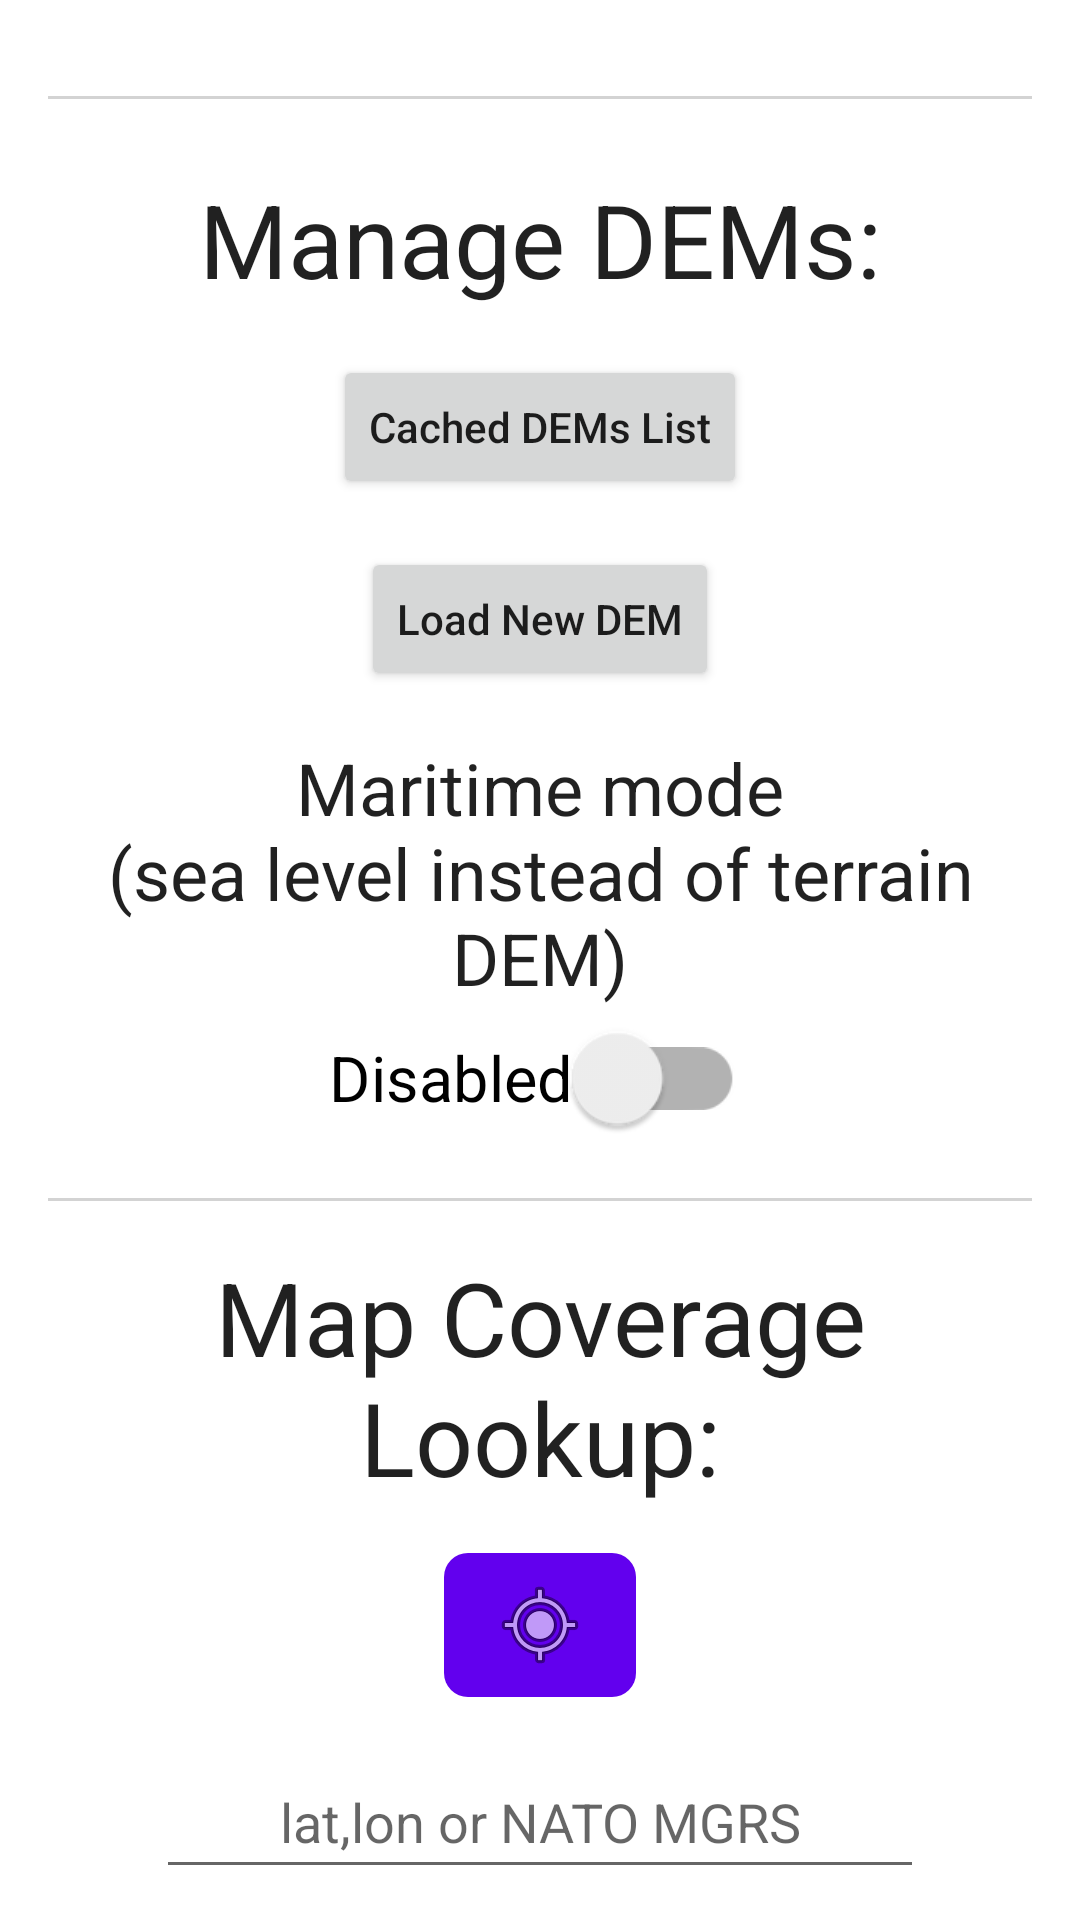

Locate icon controls on the screen. Image size 1080*1920, boxes as [x1,y1,x2,y2].
mylocation: [444,1553,636,1697]
